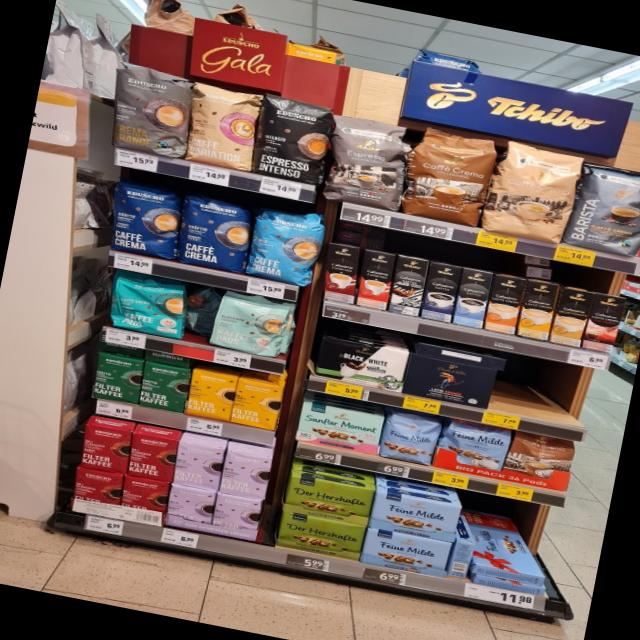BW Gemahlen: (314, 334, 410, 394)
Barista CC: (568, 159, 640, 260)
CC Mild: (486, 140, 584, 246)
CC Vollmundig 36 Pads: (402, 124, 498, 228)
Espresso Aromatisch: (320, 111, 416, 214)
FM Bohne: (379, 410, 442, 468)
FM Gemahlen: (360, 526, 453, 580), (371, 489, 464, 543)
Herzhatfe Mundig: (276, 510, 368, 562), (284, 474, 376, 526)
LG Gemahlen: (402, 352, 498, 410)
SM Gemahlen: (296, 399, 386, 456)
Simo CC Colombia: (583, 292, 625, 355)
Simo CCMild bigpack: (518, 280, 559, 342)
Simo CCVollmundig bigpack: (484, 274, 526, 334)
Simo Decaff: (550, 286, 594, 349)
Simo Es Brazil: (355, 249, 397, 311)
Simo Es Caramel: (318, 242, 363, 304)
Simo Es Elegant: (389, 256, 429, 316)
Simo Es Kraft: (421, 262, 462, 322)
Simo Es Vanilla: (453, 268, 493, 328)
